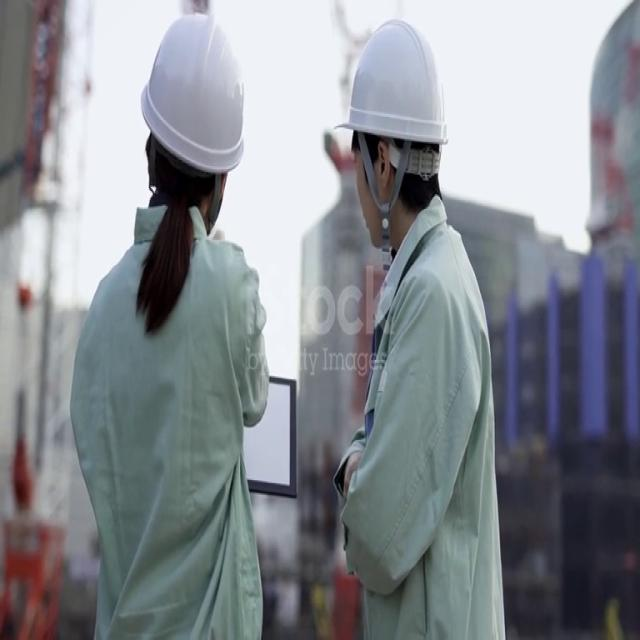capacete: (123, 0, 250, 187), (322, 2, 454, 162)
